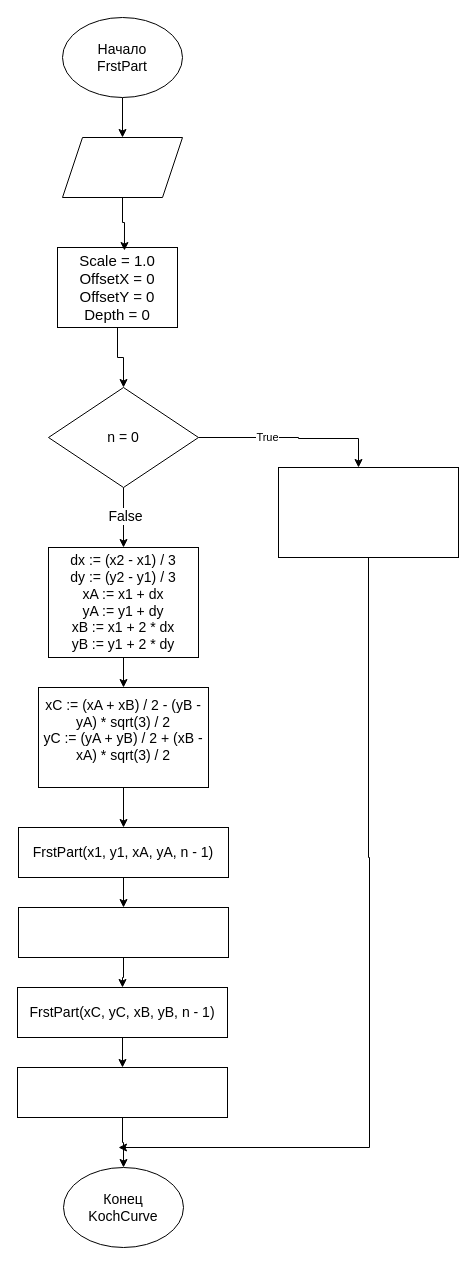
Some shapes in this 476 by 1265 pixel diagram are drawn without their labels. Each missing label, with the box of its shape:
FrstPart(xA, yA, xC, yC, n - 1): (18, 906, 228, 958)
FrstPart(xB, yB, x2, y2, n - 1): (16, 1066, 228, 1118)
Line(round(x1), round(y1), round(x2), round(y2)): (278, 466, 458, 558)
Ввести x1,y1,x2,y2,n: (62, 136, 182, 198)
